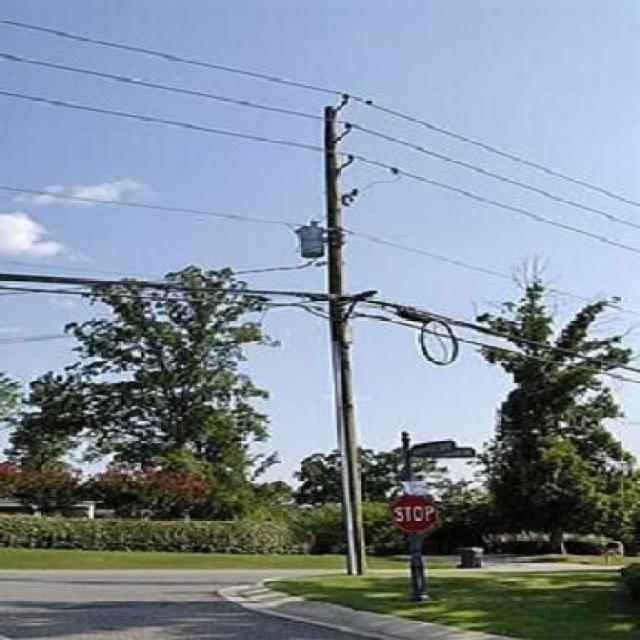pole: (252, 79, 420, 578)
